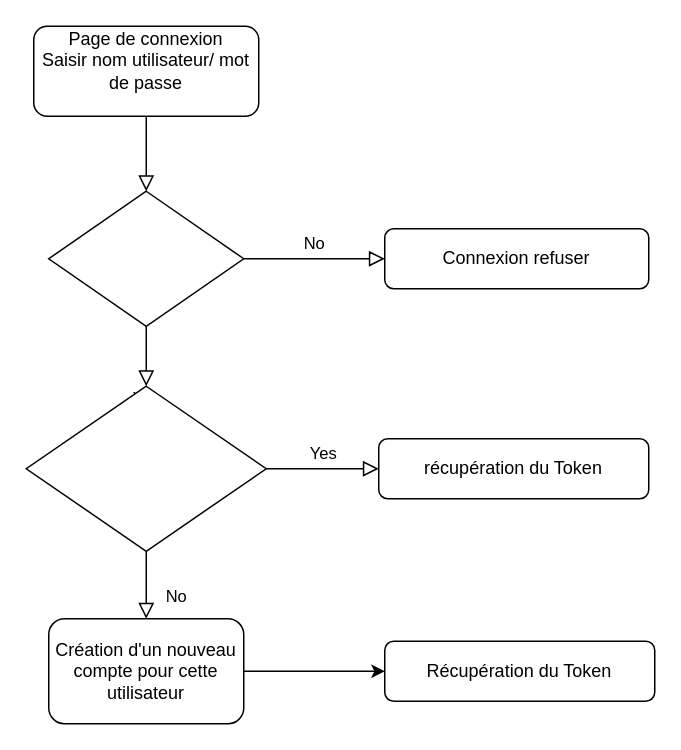
Some shapes in this 681 by 750 pixel diagram are drawn without their labels. The centre of each missing label's shape, as x and y in pixels:
"Authentification LDAP" belongs at point (145, 258).
"Utilisateur existe dans Bonita" belongs at point (145, 468).
